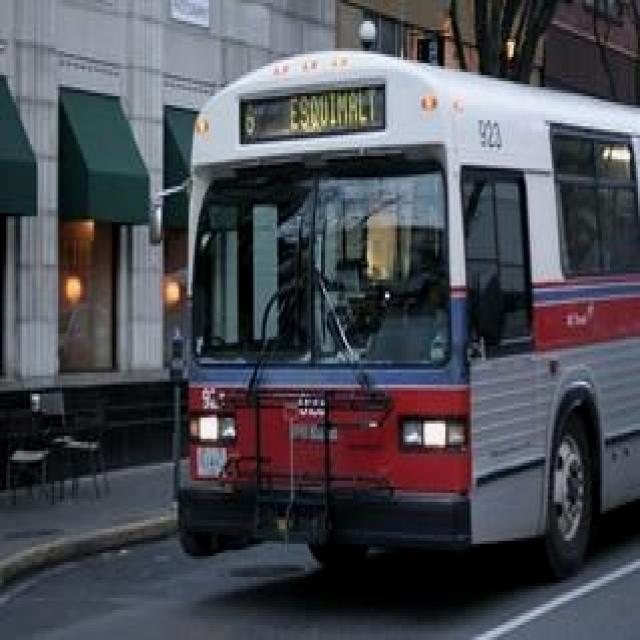Bus: (182, 72, 622, 524)
